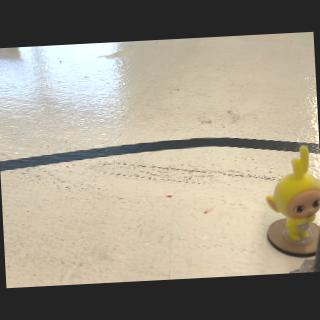teletubby: (266, 146, 320, 240)
